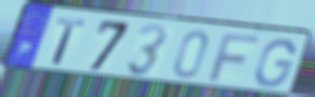0: (171, 29, 210, 81)
3: (124, 23, 172, 78)
7: (89, 18, 132, 73)
F: (207, 32, 262, 83)
G: (252, 37, 298, 89)
T: (50, 16, 89, 66)
